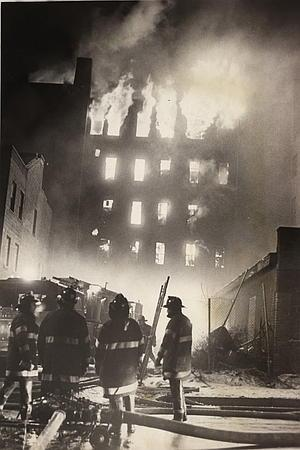smoke: (111, 38, 298, 257), (84, 0, 300, 125)
